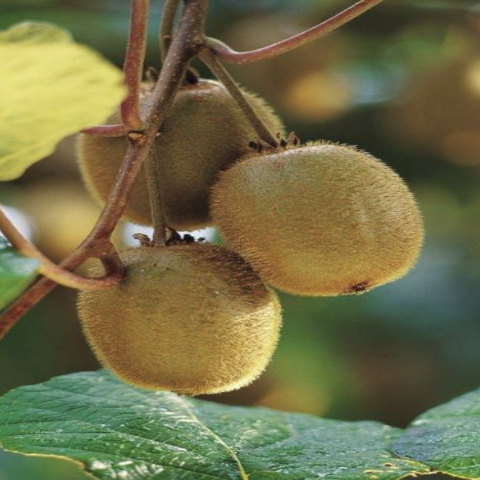kiwi: (60, 227, 315, 398), (79, 72, 304, 243), (203, 137, 441, 298)
